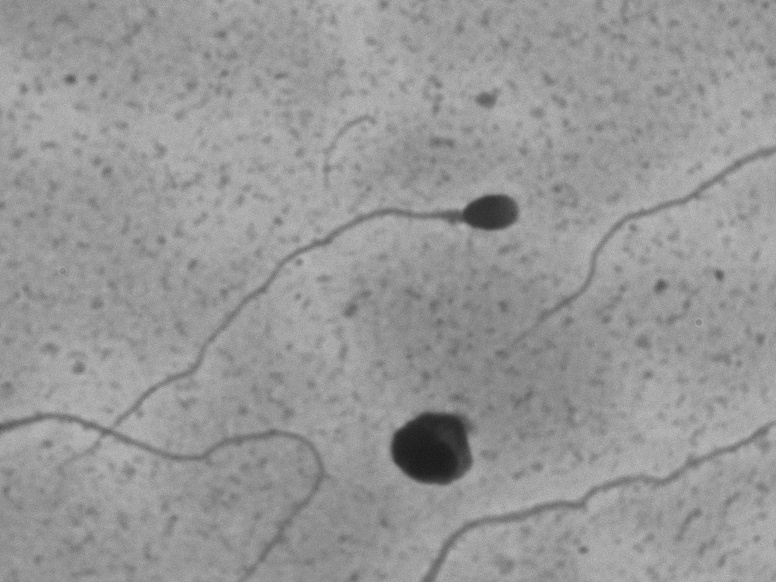Normal: (18, 178, 536, 504)
